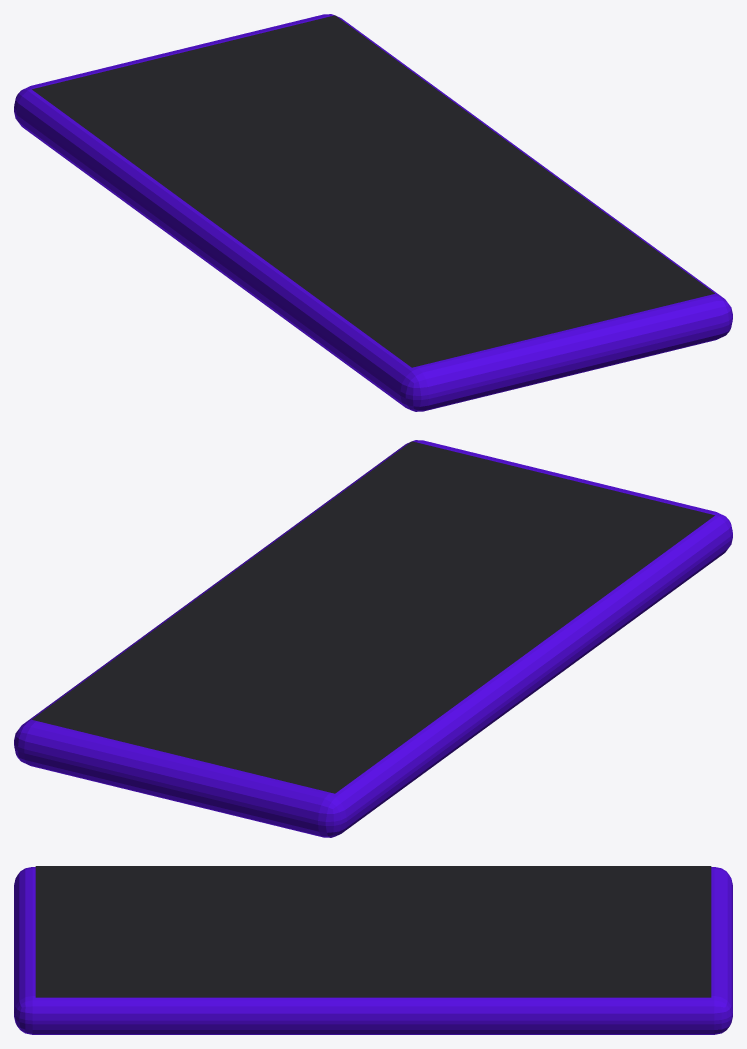
Rendered from infinix-gen-2024-mid-range-2024.glb.
The picture shows the model from 3 angles, top to bottom: view 1: azimuth 30°, elevation 25°; view 2: azimuth 150°, elevation 25°; view 3: azimuth 270°, elevation 25°; orthographic projection. The views are drawn at different scales.
Visible parts, largest first — view 1: Phone_Screen, Phone_Body; view 2: Phone_Screen, Phone_Body; view 3: Phone_Screen, Phone_Body.
Boxes of the visible parts, bbox=[...] form: Phone_Screen: bbox=[32, 15, 714, 367]; Phone_Body: bbox=[14, 14, 732, 411]; Phone_Screen: bbox=[32, 441, 714, 793]; Phone_Body: bbox=[14, 440, 732, 837]; Phone_Screen: bbox=[35, 866, 711, 997]; Phone_Body: bbox=[14, 867, 732, 1034].
Bounding box in the file's own units: 0.0708 × 0.0087 × 0.1504.
